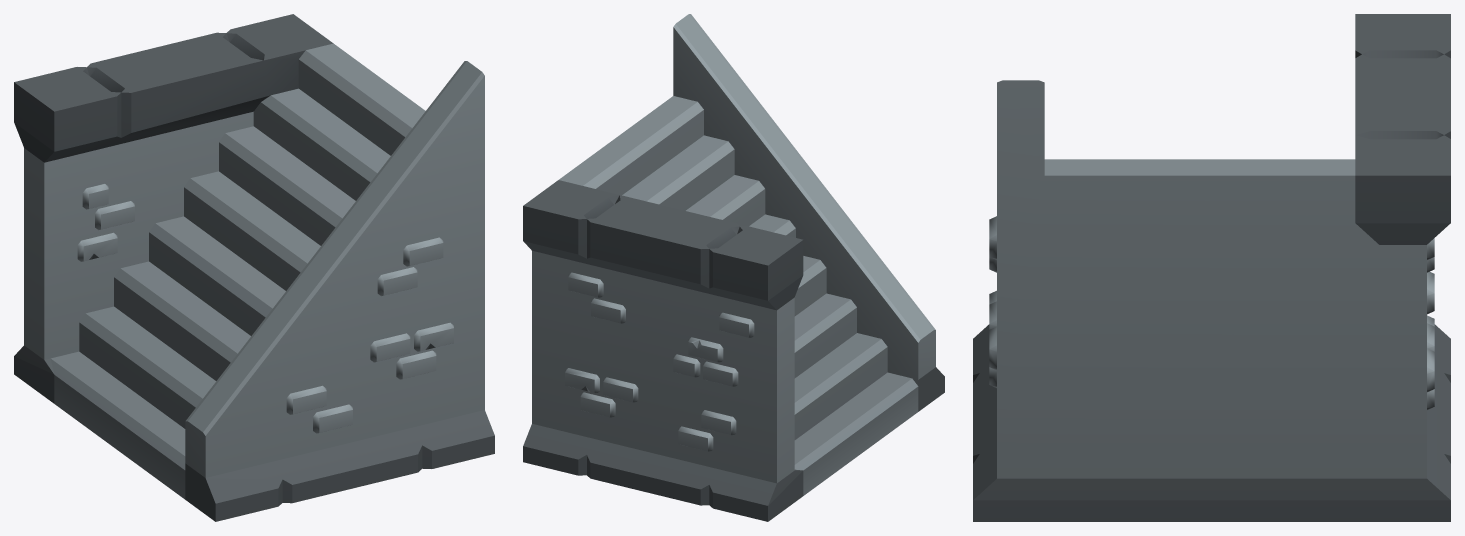
The model's file is stairs_wall_right.gltf.
3 renders of one model, left to right at view 1: azimuth 30°, elevation 25°; view 2: azimuth 150°, elevation 25°; view 3: azimuth 270°, elevation 25°, orthographic. The views are drawn at different scales.
Parts seen in each view (by area): view 1: stairs_wall_right; view 2: stairs_wall_right; view 3: stairs_wall_right.
Part boxes in pixels (bbox=[...]): stairs_wall_right: bbox=[14, 14, 494, 521]; stairs_wall_right: bbox=[523, 14, 944, 521]; stairs_wall_right: bbox=[973, 14, 1450, 521].
Bounding box in the file's own units: 4 × 5.1 × 5.
Materials: 1 (1 with a texture image).
